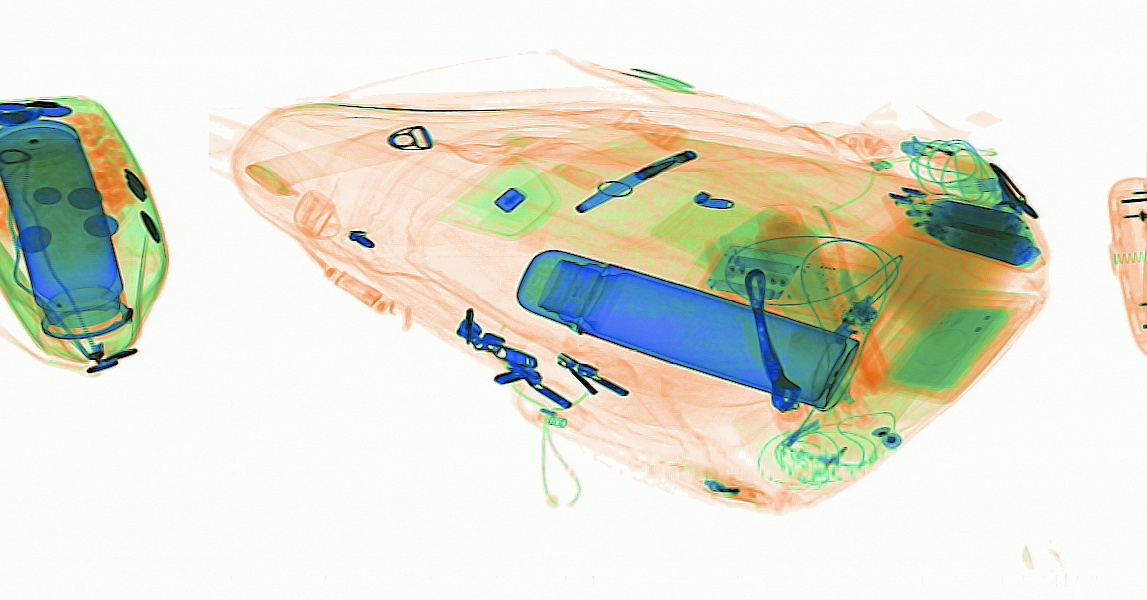powerbank: (880, 184, 1047, 272)
